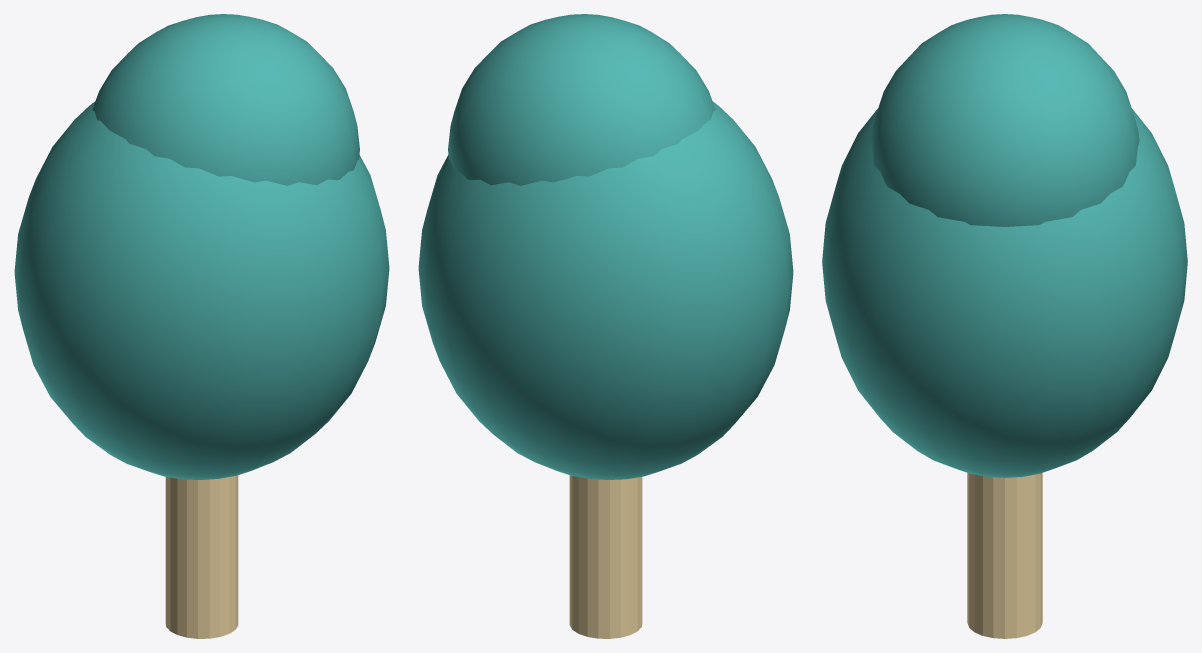
File: tree.glb
3 renders of one model, left to right at view 1: azimuth 30°, elevation 25°; view 2: azimuth 150°, elevation 25°; view 3: azimuth 270°, elevation 25°, orthographic. The views are drawn at different scales.
Parts seen in each view (by area): view 1: Canopy, Crown.001, Trunk; view 2: Canopy, Crown.001, Trunk; view 3: Canopy, Crown.001, Trunk.
Part boxes in pixels (box(x1,y1,x2,y2)): Canopy: box(14, 102, 389, 479); Crown.001: box(92, 14, 359, 185); Trunk: box(165, 475, 238, 638); Canopy: box(418, 102, 793, 479); Crown.001: box(448, 14, 715, 185); Trunk: box(569, 475, 642, 638); Canopy: box(822, 108, 1187, 477); Crown.001: box(870, 14, 1139, 226); Trunk: box(967, 473, 1042, 638).
Bounding box in the file's own units: 1.66 × 2.85 × 1.56.
